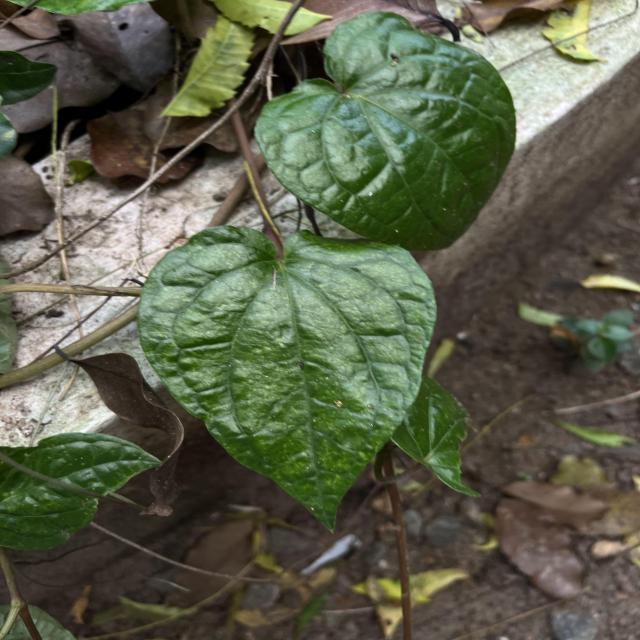Piper betle: (132, 220, 442, 537)
